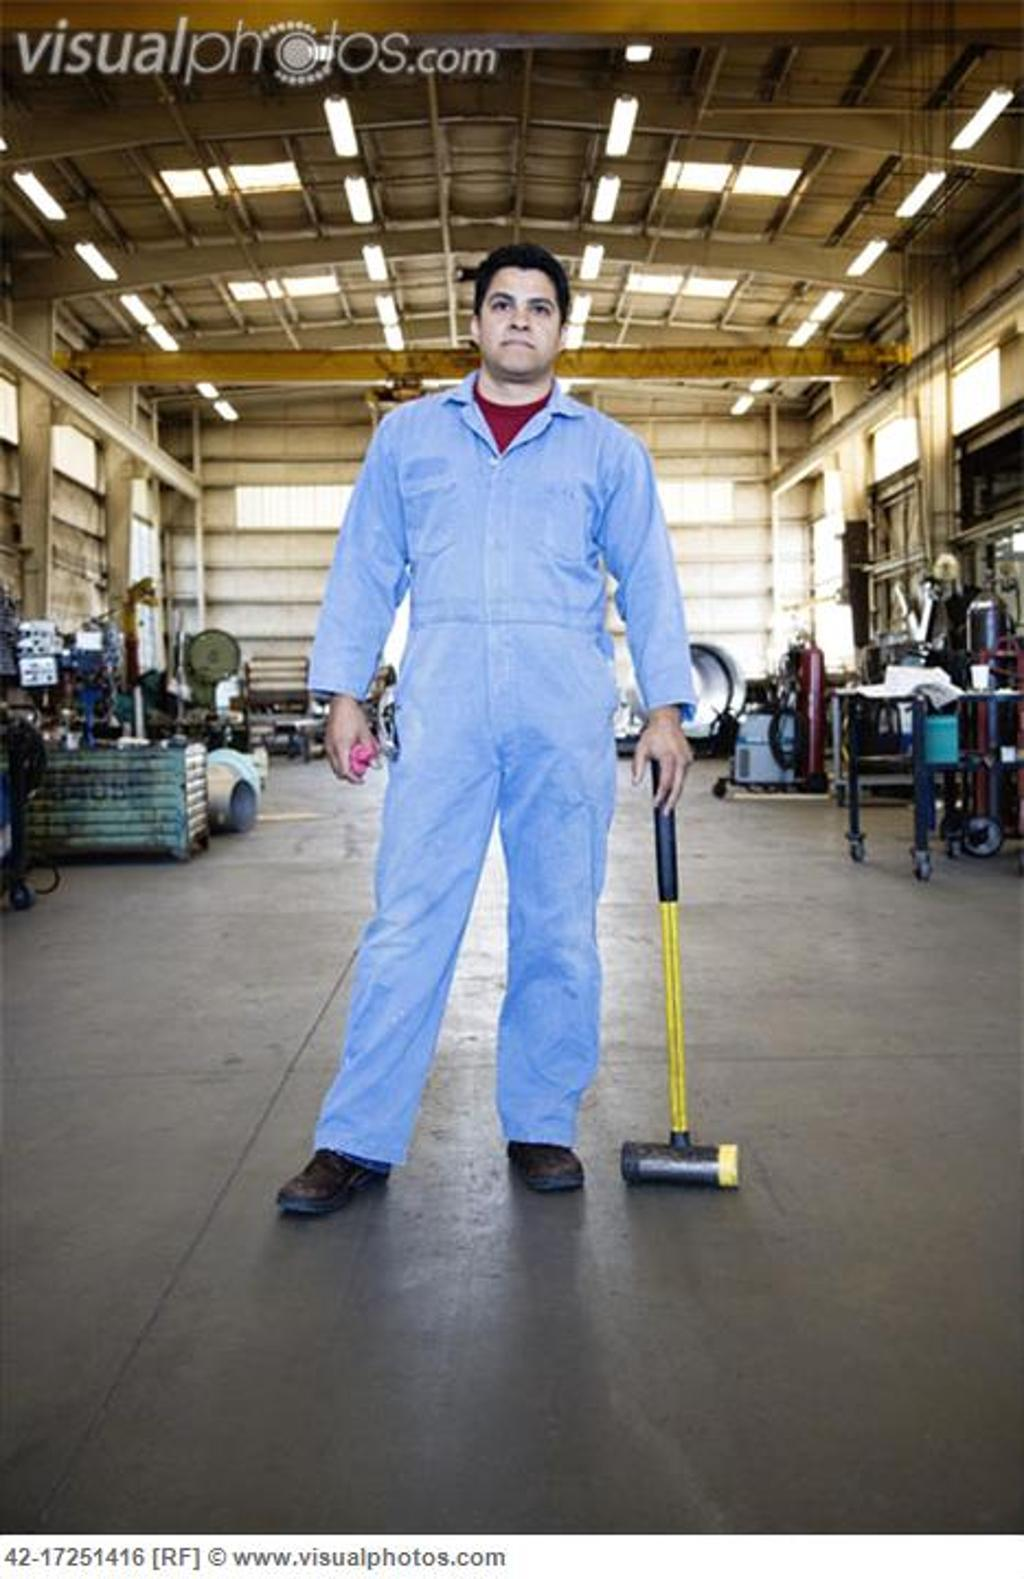face: (482, 269, 547, 371)
